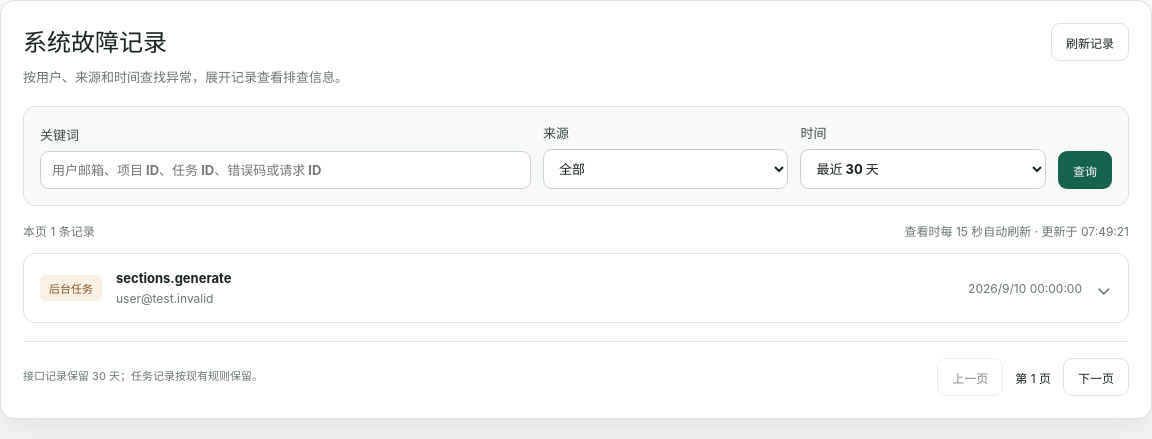
it: shows failures and submits filters without a request per keystroke
Type "PROVIDER_FAILED" into the search field with placeholder "用户邮箱、项目 ID、任务 ID、错误码或请求 ID". click: [286, 170]
box: [40,151,531,189]
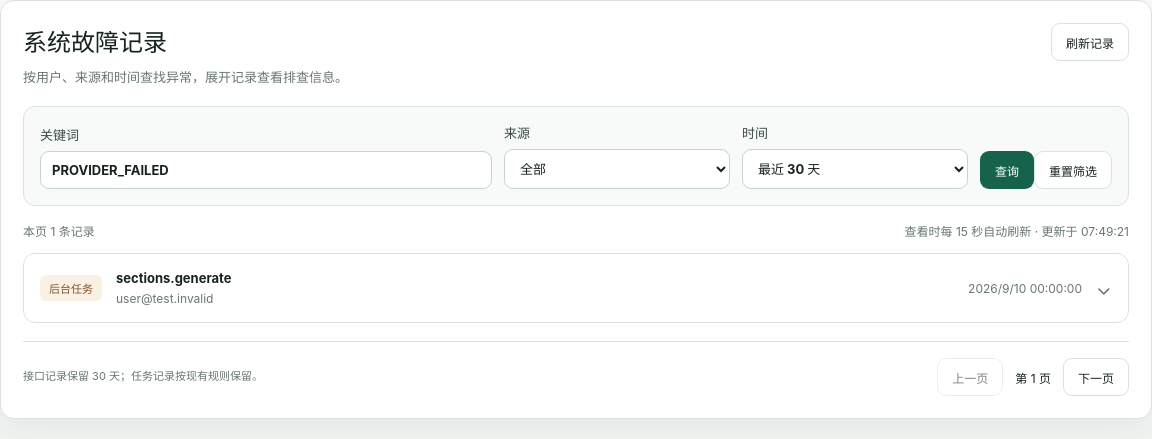
Click the button "查询". click: [1007, 170]
box: [980,151,1034,189]
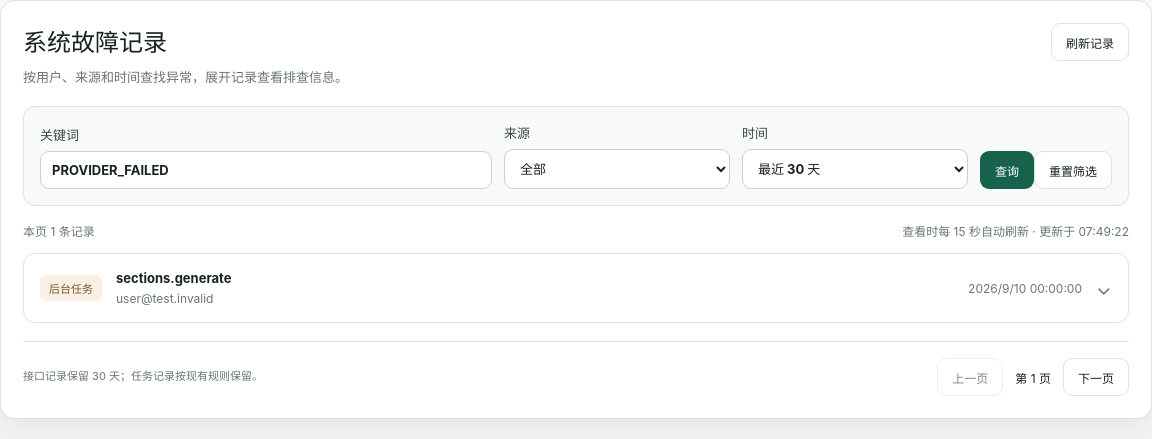
Click the button "下一页". click: [1096, 377]
box: [1063,358,1129,396]
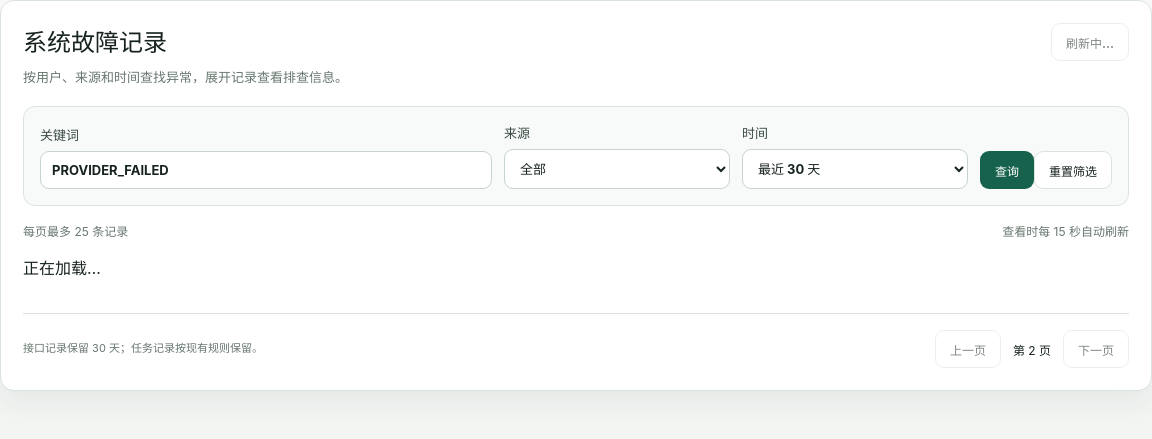
Click the button "重置筛选". click: [1073, 170]
box: [1034,151,1112,189]
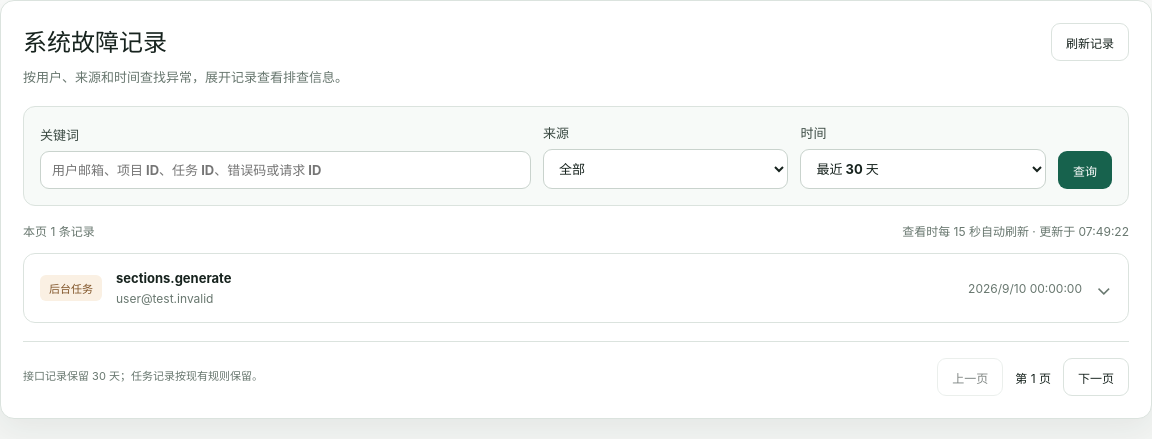
Check: the dropdown labelled "来源" shows "全部", box [543,149,788,189]
Check: the text "第 1 页" is shown, box [1015,369,1051,386]
Check: the search field labelled "关键词" is empty, box [40,151,531,189]
